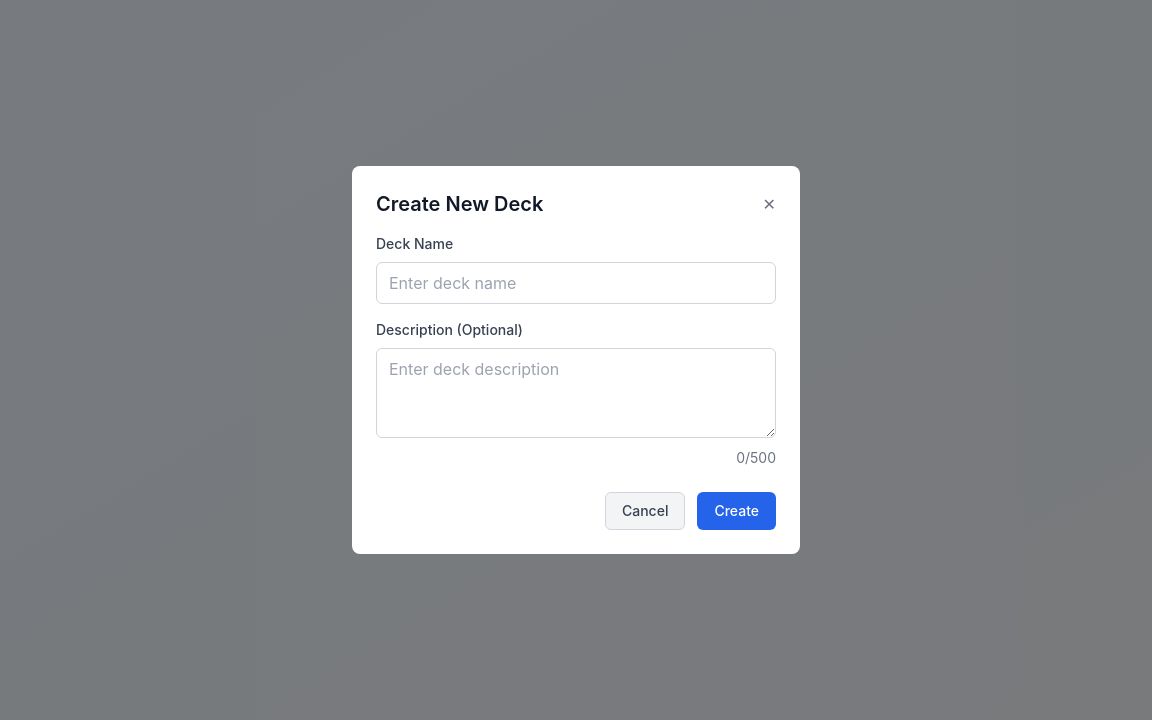
Test: CreateDeckModal - Duplicate Name Validation › should prevent submission when deck name is duplicate
Type "Existing Deck" into the field labelled "Deck Name" at point(576, 283), box [376,262,776,304]
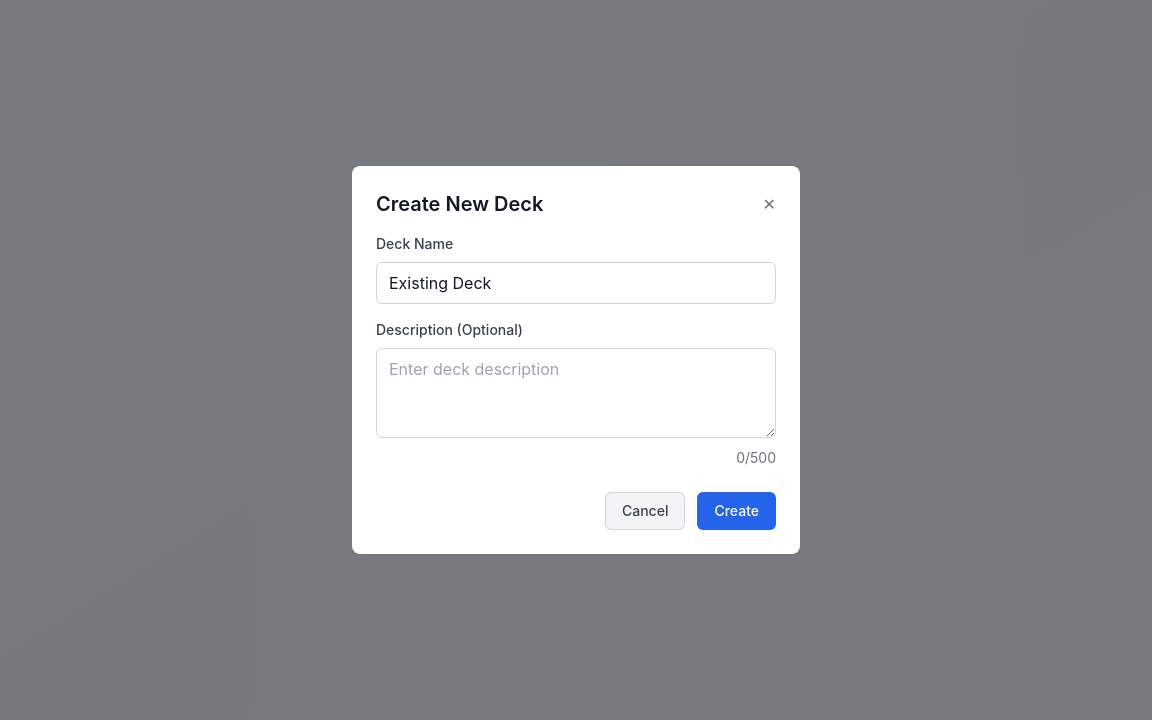
Click the button "Create" at point(737, 511), box [697,492,776,530]
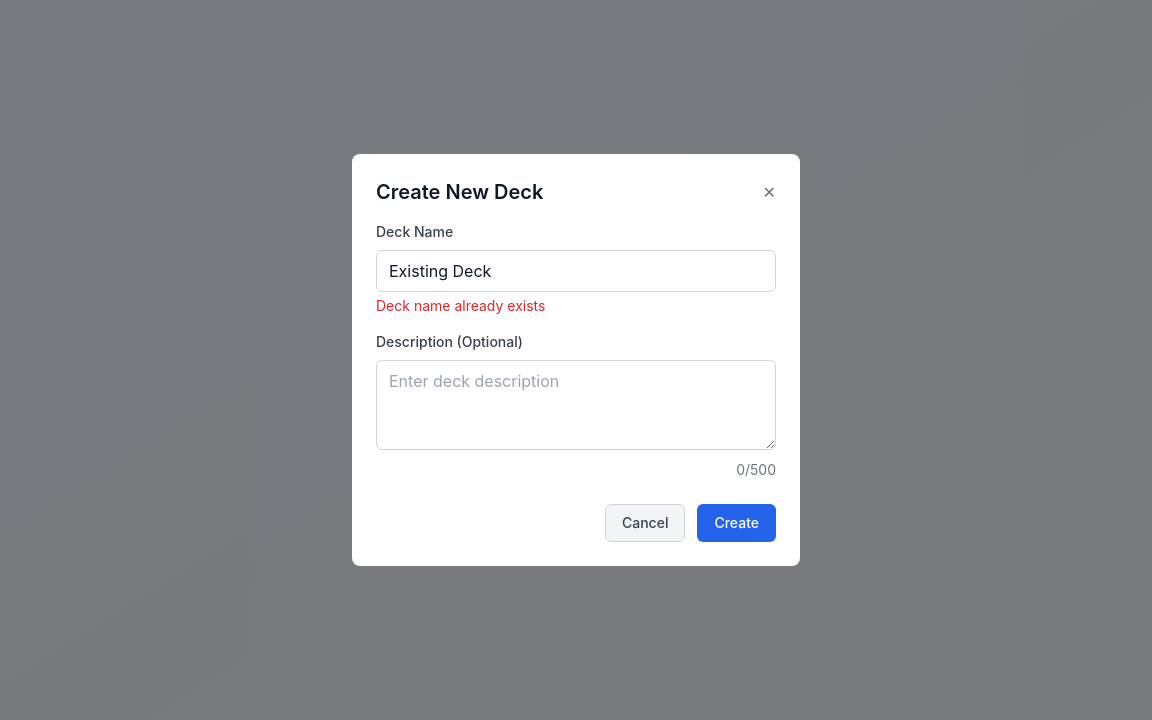
Expected: the text "Deck name already exists" is shown, [376,297,545,314]
